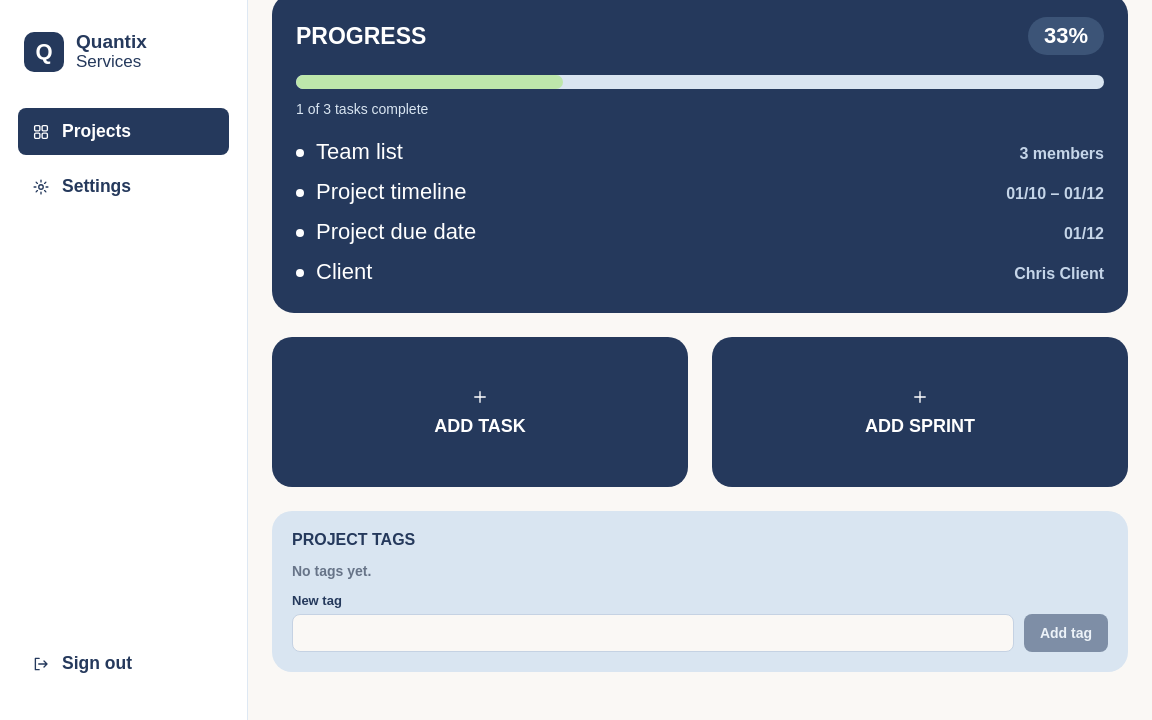
Test case: Project tags › displays errors when adding tags fails
(page scrolled)
Step 1. Type "Frontend" into the field labelled "New tag" → [653, 633], box [292, 614, 1014, 652]
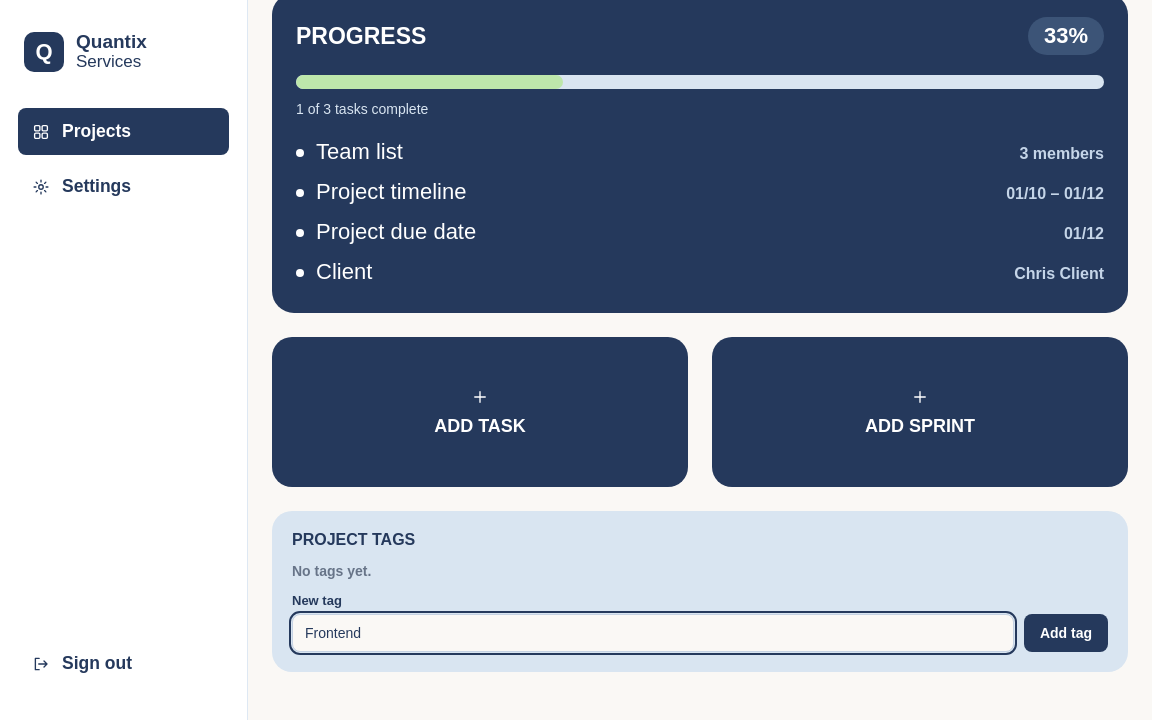
Step 2. Click the button "Add tag" → [1066, 633], box [1024, 614, 1108, 652]
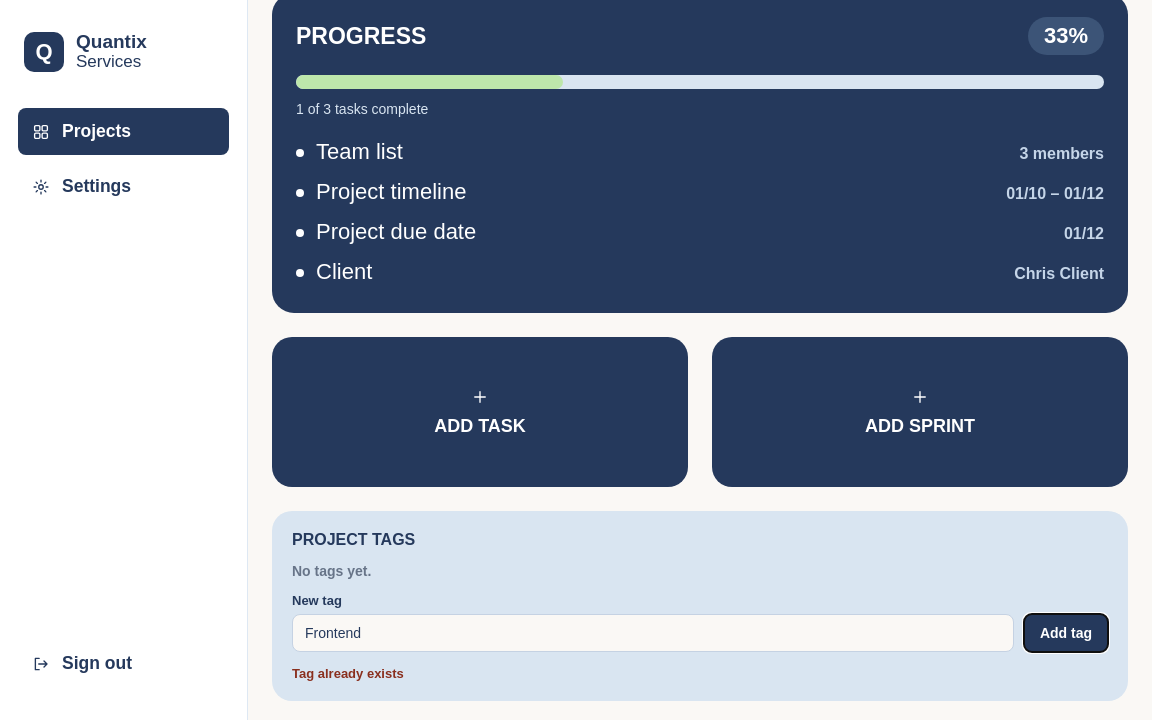
Now the message reads "Tag already exists", box [292, 666, 404, 681]
